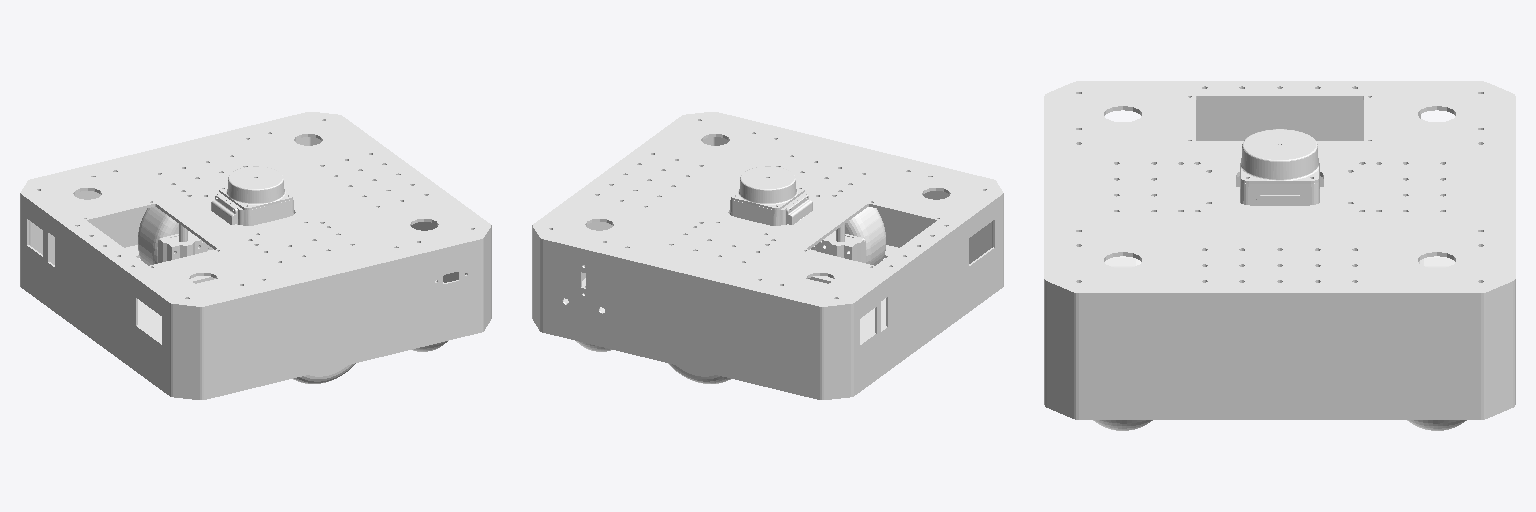
robot.urdf — robot_description:
<?xml version="1.0" encoding="utf-8"?>
<!-- This URDF was automatically created by SolidWorks to URDF Exporter! Originally created by
Stephen Brawner (brawner@gmail.com) 
     Commit Version: 1.6.0-4-g7f85cfe  Build Version: 1.6.7995.38578
     For more information, please see http://wiki.ros.org/sw_urdf_exporter -->
<robot
  name="robot_description">
  <link
    name="base_link">
    <inertial>
      <origin
        xyz="0.00397566564480751 2.2956883746592E-05 0.0745289782507884"
        rpy="0 0 0" />
      <mass
        value="3.746947205097271" />
      <inertia
        ixx="0.00611443375380597"
        ixy="2.02956669939991E-06"
        ixz="-8.78074512655317E-06"
        iyy="0.00693855704043555"
        iyz="-6.60380191821164E-07"
        izz="0.0128028685982198" />
    </inertial>
    <visual>
      <origin
        xyz="0 0 0"
        rpy="0 0 0" />
      <geometry>
        <mesh
          filename="package://swjtumover_bringup/meshes/robot_description/base_link.STL" />
      </geometry>
      <material
        name="">
        <color
          rgba="1 1 1 1" />
      </material>
    </visual>
    <collision>
      <origin
        xyz="0 0 0"
        rpy="0 0 0" />
      <geometry>
        <mesh
          filename="package://swjtumover_bringup/meshes/robot_description/base_link.STL" />
      </geometry>
    </collision>
  </link>
  <link
    name="lidar_link">
    <inertial>
      <origin
        xyz="-0.00474079083532222 -0.000551507346580374 -0.0192117942473479"
        rpy="0 0 0" />
      <mass
        value="0.0379769494557349" />
      <inertia
        ixx="1.11587944117621E-05"
        ixy="1.39606177078319E-08"
        ixz="2.29259366612671E-07"
        iyy="1.08269122958988E-05"
        iyz="2.26813175774993E-07"
        izz="1.95436180413409E-05" />
    </inertial>
    <visual>
      <origin
        xyz="0 0 0"
        rpy="0 0 0" />
      <geometry>
        <mesh
          filename="package://swjtumover_bringup/meshes/robot_description/lidar_link.STL" />
      </geometry>
      <material
        name="">
        <color
          rgba="1 1 1 1" />
      </material>
    </visual>
    <collision>
      <origin
        xyz="0 0 0"
        rpy="0 0 0" />
      <geometry>
        <mesh
          filename="package://swjtumover_bringup/meshes/robot_description/lidar_link.STL" />
      </geometry>
    </collision>
  </link>
  <joint
    name="lidar_joint"
    type="fixed">
    <origin
      xyz="0 0 0.14114"
      rpy="0.02618 0 0" />
    <parent
      link="base_link" />
    <child
      link="lidar_link" />
    <axis
      xyz="0 0 0" />
  </joint>
  <link
    name="wheel_left_link">
    <inertial>
      <origin
        xyz="1.68882878657283E-08 0.000616255970447038 1.40040225692084E-06"
        rpy="0 0 0" />
      <mass
        value="0.325632309059132" />
      <inertia
        ixx="0.000239986618417032"
        ixy="1.07707210229418E-10"
        ixz="1.78381248878456E-10"
        iyy="0.000393959639786965"
        iyz="1.03352663889246E-08"
        izz="0.000239989385675051" />
    </inertial>
    <visual>
      <origin
        xyz="0 0 0"
        rpy="0 0 0" />
      <geometry>
        <mesh
          filename="package://swjtumover_bringup/meshes/robot_description/wheel_left_link.STL" />
      </geometry>
      <material
        name="">
        <color
          rgba="1 1 1 1" />
      </material>
    </visual>
    <collision>
      <origin
        xyz="0 0 0"
        rpy="0 0 0" />
      <geometry>
        <mesh
          filename="package://swjtumover_bringup/meshes/robot_description/wheel_left_link.STL" />
      </geometry>
    </collision>
  </link>
  <joint
    name="wheel_left_joint"
    type="continuous">
    <origin
      xyz="0 0.103 0.050346"
      rpy="0 0 0" />
    <parent
      link="base_link" />
    <child
      link="wheel_left_link" />
    <axis
      xyz="0 1 0" />
  </joint>
  <link
    name="wheel_right_link">
    <inertial>
      <origin
        xyz="-1.68883438713535E-08 -0.000616255970446997 1.40040225692778E-06"
        rpy="0 0 0" />
      <mass
        value="0.325632309059132" />
      <inertia
        ixx="0.000239986618417032"
        ixy="1.07707210229033E-10"
        ixz="-1.78381248878471E-10"
        iyy="0.000393959639786965"
        iyz="-1.03352663889346E-08"
        izz="0.000239989385675051" />
    </inertial>
    <visual>
      <origin
        xyz="0 0 0"
        rpy="0 0 0" />
      <geometry>
        <mesh
          filename="package://swjtumover_bringup/meshes/robot_description/wheel_right_link.STL" />
      </geometry>
      <material
        name="">
        <color
          rgba="1 1 1 1" />
      </material>
    </visual>
    <collision>
      <origin
        xyz="0 0 0"
        rpy="0 0 0" />
      <geometry>
        <mesh
          filename="package://swjtumover_bringup/meshes/robot_description/wheel_right_link.STL" />
      </geometry>
    </collision>
  </link>
  <joint
    name="wheel_right_joint"
    type="continuous">
    <origin
      xyz="0 -0.103 0.050346"
      rpy="0 0 0" />
    <parent
      link="base_link" />
    <child
      link="wheel_right_link" />
    <axis
      xyz="0 1 0" />
  </joint>
  <link
    name="ball_forward_left_link">
    <inertial>
      <origin
        xyz="0 0 0"
        rpy="0 0 0" />
      <mass
        value="0.113097335529233" />
      <inertia
        ixx="4.07150407905237E-05"
        ixy="0"
        ixz="5.4694986761484E-53"
        iyy="4.07150407905237E-05"
        iyz="-9.18354961579912E-38"
        izz="4.07150407905237E-05" />
    </inertial>
    <visual>
      <origin
        xyz="0 0 0"
        rpy="0 0 0" />
      <geometry>
        <mesh
          filename="package://swjtumover_bringup/meshes/robot_description/ball_forward_left_link.STL" />
      </geometry>
      <material
        name="">
        <color
          rgba="1 1 1 1" />
      </material>
    </visual>
    <collision>
      <origin
        xyz="0 0 0"
        rpy="0 0 0" />
      <geometry>
        <mesh
          filename="package://swjtumover_bringup/meshes/robot_description/ball_forward_left_link.STL" />
      </geometry>
    </collision>
  </link>
  <joint
    name="ball_forward_left_joint"
    type="continuous">
    <origin
      xyz="0.10843 0.1 0.0305"
      rpy="0 0 0" />
    <parent
      link="base_link" />
    <child
      link="ball_forward_left_link" />
    <axis
      xyz="1 1 1" />
  </joint>
  <link
    name="ball_forward_right_link">
    <inertial>
      <origin
        xyz="0 0 0"
        rpy="0 0 0" />
      <mass
        value="0.113097335529233" />
      <inertia
        ixx="4.07150407905237E-05"
        ixy="0"
        ixz="-5.4694986761484E-53"
        iyy="4.07150407905237E-05"
        iyz="9.18354961579912E-38"
        izz="4.07150407905237E-05" />
    </inertial>
    <visual>
      <origin
        xyz="0 0 0"
        rpy="0 0 0" />
      <geometry>
        <mesh
          filename="package://swjtumover_bringup/meshes/robot_description/ball_forward_right_link.STL" />
      </geometry>
      <material
        name="">
        <color
          rgba="1 1 1 1" />
      </material>
    </visual>
    <collision>
      <origin
        xyz="0 0 0"
        rpy="0 0 0" />
      <geometry>
        <mesh
          filename="package://swjtumover_bringup/meshes/robot_description/ball_forward_right_link.STL" />
      </geometry>
    </collision>
  </link>
  <joint
    name="ball_forward_right_joint"
    type="continuous">
    <origin
      xyz="0.10843 -0.1 0.0305"
      rpy="0 0 0" />
    <parent
      link="base_link" />
    <child
      link="ball_forward_right_link" />
    <axis
      xyz="1 1 1" />
  </joint>
  <link
    name="ball_rear_left_link">
    <inertial>
      <origin
        xyz="0 0 0"
        rpy="0 0 0" />
      <mass
        value="0.113097335529233" />
      <inertia
        ixx="4.07150407905237E-05"
        ixy="0"
        ixz="5.4694986761484E-53"
        iyy="4.07150407905237E-05"
        iyz="-9.18354961579912E-38"
        izz="4.07150407905237E-05" />
    </inertial>
    <visual>
      <origin
        xyz="0 0 0"
        rpy="0 0 0" />
      <geometry>
        <mesh
          filename="package://swjtumover_bringup/meshes/robot_description/ball_rear_left_link.STL" />
      </geometry>
      <material
        name="">
        <color
          rgba="1 1 1 1" />
      </material>
    </visual>
    <collision>
      <origin
        xyz="0 0 0"
        rpy="0 0 0" />
      <geometry>
        <mesh
          filename="package://swjtumover_bringup/meshes/robot_description/ball_rear_left_link.STL" />
      </geometry>
    </collision>
  </link>
  <joint
    name="ball_rear_left_joint"
    type="continuous">
    <origin
      xyz="-0.10843 0.1 0.0305"
      rpy="0 0 0" />
    <parent
      link="base_link" />
    <child
      link="ball_rear_left_link" />
    <axis
      xyz="1 1 1" />
  </joint>
  <link
    name="ball_rear_right_link">
    <inertial>
      <origin
        xyz="0 0 0"
        rpy="0 0 0" />
      <mass
        value="0.113097335529233" />
      <inertia
        ixx="4.07150407905237E-05"
        ixy="0"
        ixz="-5.4694986761484E-53"
        iyy="4.07150407905237E-05"
        iyz="9.18354961579912E-38"
        izz="4.07150407905237E-05" />
    </inertial>
    <visual>
      <origin
        xyz="0 0 0"
        rpy="0 0 0" />
      <geometry>
        <mesh
          filename="package://swjtumover_bringup/meshes/robot_description/ball_rear_right_link.STL" />
      </geometry>
      <material
        name="">
        <color
          rgba="1 1 1 1" />
      </material>
    </visual>
    <collision>
      <origin
        xyz="0 0 0"
        rpy="0 0 0" />
      <geometry>
        <mesh
          filename="package://swjtumover_bringup/meshes/robot_description/ball_rear_right_link.STL" />
      </geometry>
    </collision>
  </link>
  <joint
    name="ball_rear_right_joint"
    type="continuous">
    <origin
      xyz="-0.10843 -0.1 0.0305"
      rpy="0 0 0" />
    <parent
      link="base_link" />
    <child
      link="ball_rear_right_link" />
    <axis
      xyz="1 1 1" />
  </joint>

  <!-- 轮子摩擦系数设置 -->
  <gazebo reference="wheel_left_link">
    <mu1 value="200.0" />
    <mu2 value="100.0" />
    <kp value="10000000.0" />
    <kd value="1.0" />
    <material>Gazebo/Grey</material>
  </gazebo>
  <gazebo reference="wheel_right_link">
    <mu1 value="200.0" />
    <mu2 value="100.0" />
    <kp value="10000000.0" />
    <kd value="1.0" />
    <material>Gazebo/Grey</material>
  </gazebo>
  <gazebo reference="ball_forward_left_link">
    <mu1 value="0.0" />
    <mu2 value="0.0" />
    <kp value="10000000.0" />
    <kd value="1.0" />
    <material>Gazebo/Grey</material>
  </gazebo>
  <gazebo reference="ball_forward_right_link">
    <mu1 value="0.0" />
    <mu2 value="0.0" />
    <kp value="10000000.0" />
    <kd value="1.0" />
    <material>Gazebo/Grey</material>
  </gazebo>
  <gazebo reference="ball_rear_left_link">
    <mu1 value="0.0" />
    <mu2 value="0.0" />
    <kp value="10000000.0" />
    <kd value="1.0" />
    <material>Gazebo/Grey</material>
  </gazebo>
  <gazebo reference="ball_rear_right_link">
    <mu1 value="0.0" />
    <mu2 value="0.0" />
    <kp value="10000000.0" />
    <kd value="1.0" />
    <material>Gazebo/Grey</material>
  </gazebo>

  <!-- 主动轮差速驱动设置 -->
  <gazebo>
    <plugin name="differential_drive_controller" filename="libgazebo_ros_diff_drive.so">
      <alwaysOn>true</alwaysOn>
      <updateRate>50</updateRate>
      <legacyMode>true</legacyMode>
      <leftJoint>wheel_left_joint</leftJoint>
      <rightJoint>wheel_right_joint</rightJoint>
      <wheelSeparation>0.206</wheelSeparation>
      <wheelDiameter>0.1007</wheelDiameter>
      <torque>20</torque>
      <commandTopic>cmd_vel</commandTopic>
      <odometryTopic>odom</odometryTopic>
      <odometryFrame>odom</odometryFrame>
      <robotBaseFrame>base_link</robotBaseFrame>
      <publishWheelTF>false</publishWheelTF>
      <publishWheelJointState>false</publishWheelJointState>
      <publishOdomTF>false</publishOdomTF>
      <rosDebugLevel>na</rosDebugLevel>
      <wheelAcceleration>0</wheelAcceleration>
      <wheelTorque>20</wheelTorque>
      <odometrySource>world</odometrySource>
      <publishTf>1</publishTf>
    </plugin>
  </gazebo>

  <!-- 雷达设置 -->
  <gazebo reference="lidar_link">
    <sensor type="ray" name="lidar">
      <pose>0 0 0 0 0 0</pose>
      <visualize>true</visualize>
      <update_rate>15</update_rate>
      <ray>
        <scan>
          <horizontal>
            <samples>1200</samples>
            <resolution>1</resolution>
            <min_angle>0</min_angle>
            <max_angle>6.2832</max_angle>
          </horizontal>
        </scan>
        <range>
          <min>0.25</min>
          <max>25.0</max>
          <resolution>0.03</resolution>
        </range>
        <noise>
          <type>gaussian</type>
          <mean>0.0</mean>
          <stddev>0.01</stddev>
        </noise>
      </ray>
      <plugin name="laser_controller" filename="libgazebo_ros_laser.so">
        <topicName>scan</topicName>
        <frameName>lidar_link</frameName>
      </plugin>
    </sensor>
  </gazebo>
</robot>

--- Render facts (derived) ---
Views: 3 orthographic renders of the robot side by side, from view 1: azimuth 30°, elevation 25°; view 2: azimuth 150°, elevation 25°; view 3: azimuth 270°, elevation 25°.
Model robot_description with 8 links and 7 joints (6 continuous, 1 fixed), rooted at base_link, posed all joints at 0.
Links seen in each view (by area): view 1: base_link, lidar_link, wheel_left_link; view 2: base_link, lidar_link, wheel_right_link; view 3: base_link, lidar_link.
Boxes of the visible links, x1,y1,x2,y2 form: base_link: (20,112,491,399); lidar_link: (211,166,293,225); wheel_left_link: (138,207,212,265); base_link: (532,112,1003,399); lidar_link: (730,166,812,225); wheel_right_link: (811,207,885,265); base_link: (1044,81,1515,419); lidar_link: (1240,129,1319,205).
Size in the robot's own frame: 0.32 by 0.3 by 0.148 metres.
Meshes: 8 distinct files referenced, 8 mesh visuals loaded (8 binary STL).
